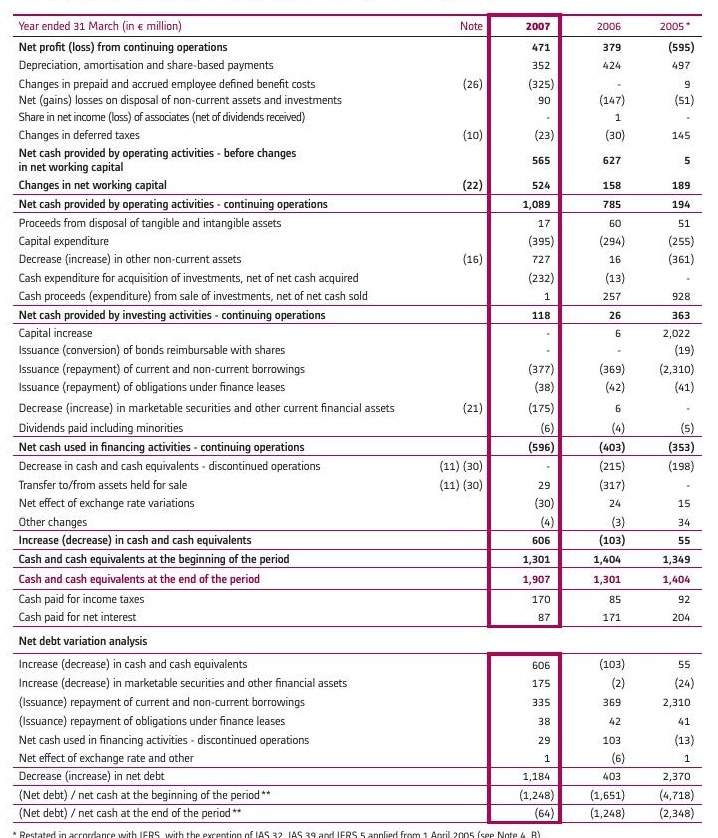table: (0, 0, 718, 838)
